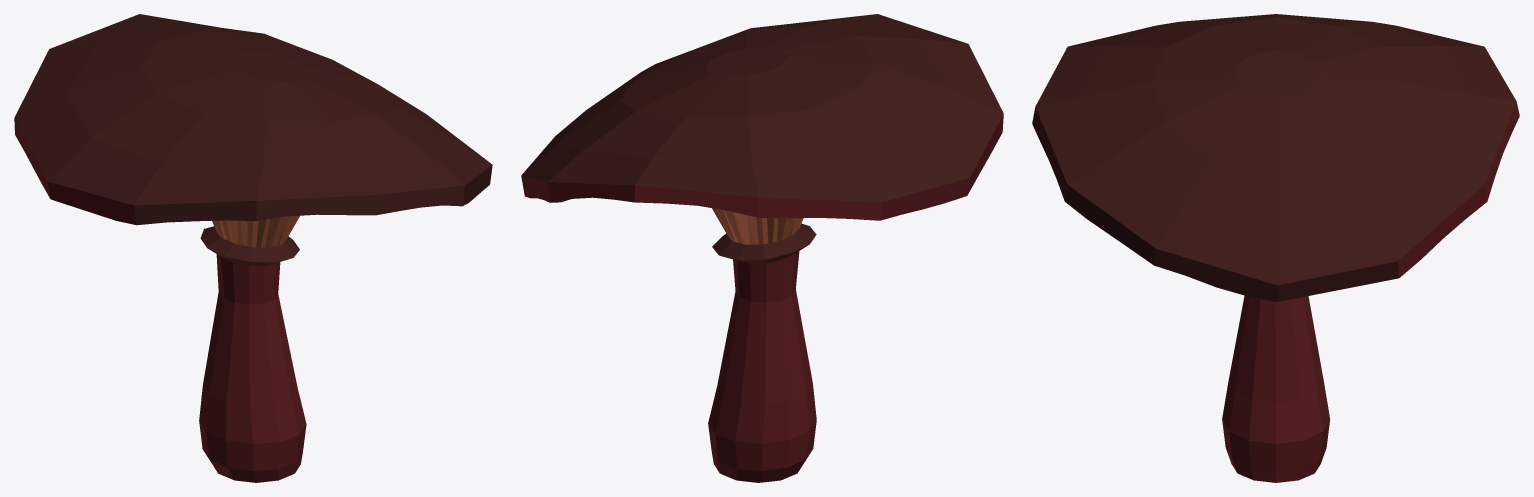
Rendered from GiantFan.fbx.
3 renders of one model, left to right at view 1: azimuth 30°, elevation 25°; view 2: azimuth 150°, elevation 25°; view 3: azimuth 270°, elevation 25°, orthographic.
Parts seen in each view (by area): view 1: MFan_01; view 2: MFan_01; view 3: MFan_01.
Boxes of the visible parts, x1,y1,x2,y2 form: MFan_01: [14, 14, 492, 482]; MFan_01: [521, 14, 1003, 482]; MFan_01: [1032, 14, 1519, 482].
Size of the model in its own units: 1072 by 1002 by 1100.
